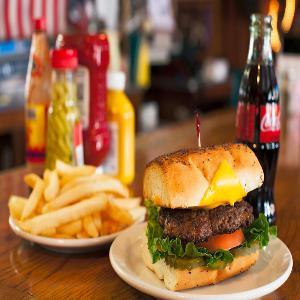cheeseburger: (139, 132, 273, 288)
fries: (11, 163, 147, 249)
